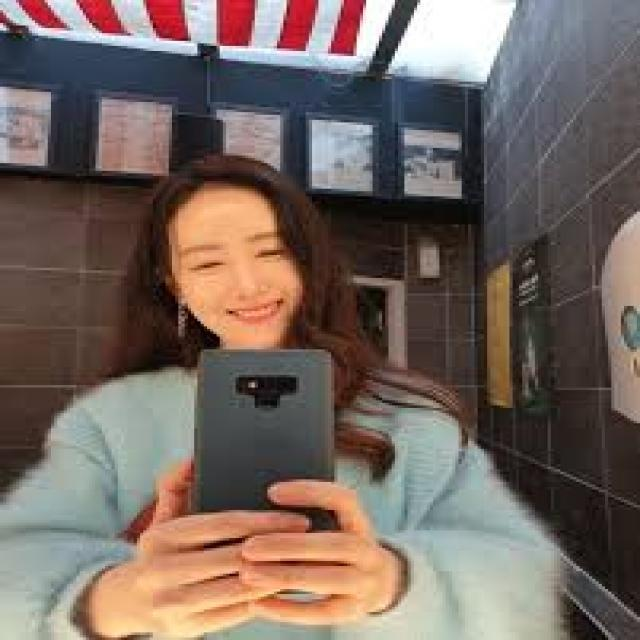Phone: (192, 345, 341, 514)
